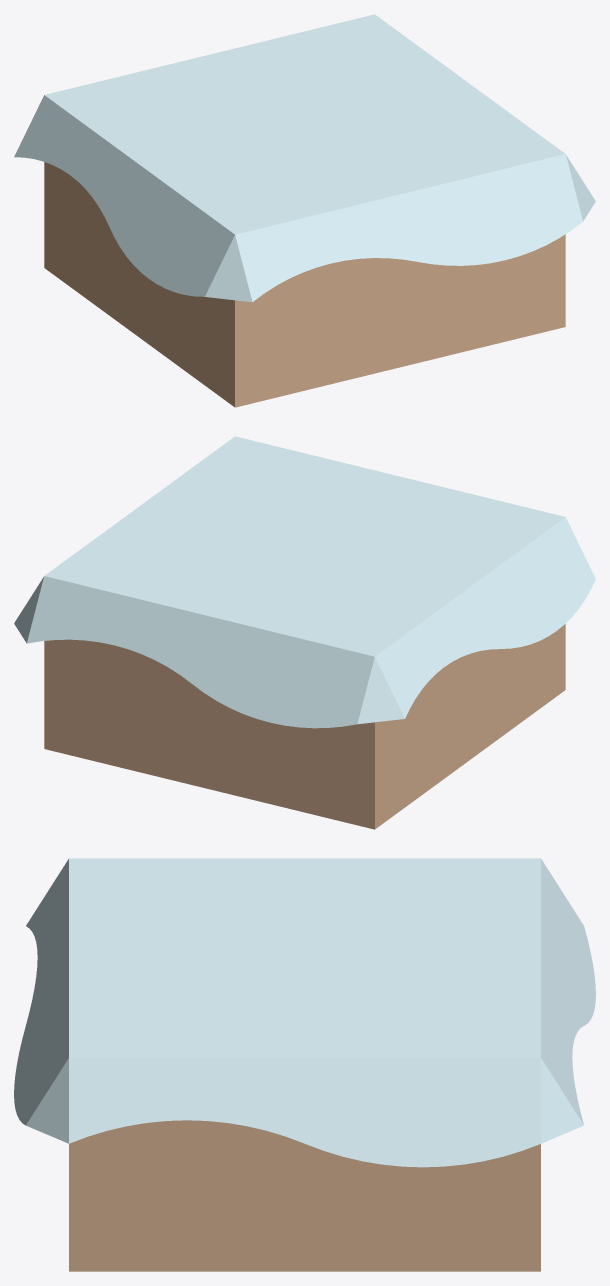
File: blockSnowHalf.glb
The picture shows the model from 3 angles, top to bottom: view 1: azimuth 30°, elevation 25°; view 2: azimuth 150°, elevation 25°; view 3: azimuth 270°, elevation 25°; orthographic projection. The views are drawn at different scales.
Visible parts, largest first — view 1: blockSnowHalf(Clone); view 2: blockSnowHalf(Clone); view 3: blockSnowHalf(Clone).
Boxes of the visible parts, box(x1,y1,x2,y2) form: blockSnowHalf(Clone): box(14, 14, 595, 407); blockSnowHalf(Clone): box(14, 436, 595, 829); blockSnowHalf(Clone): box(14, 858, 595, 1271).
Bounding box in the file's own units: 1.23 × 0.5 × 1.23.
